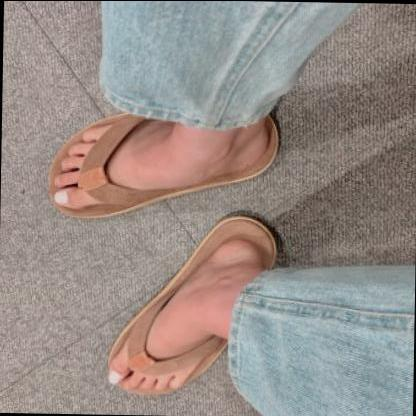no_safety-shoe: (103, 213, 295, 406), (50, 95, 286, 234)
